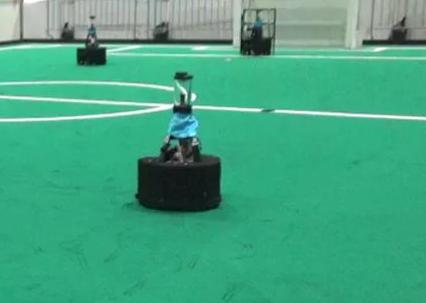robot: (132, 70, 224, 211), (71, 13, 109, 66), (240, 9, 273, 56)
